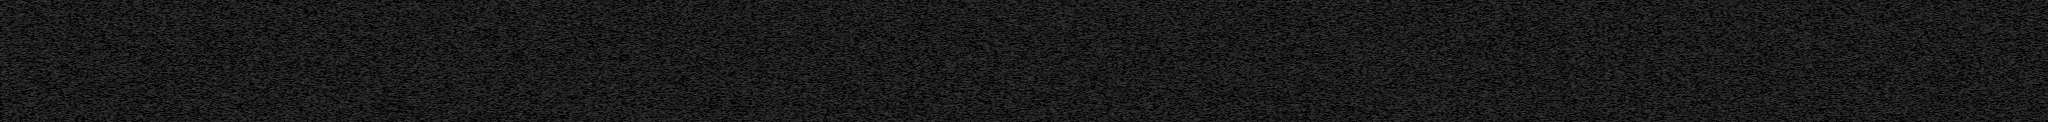wv_cw: (1933, 0, 1940, 122), (1942, 0, 1947, 122), (475, 0, 481, 122), (549, 0, 554, 122)
wv_lsb: (1340, 0, 1348, 122)
